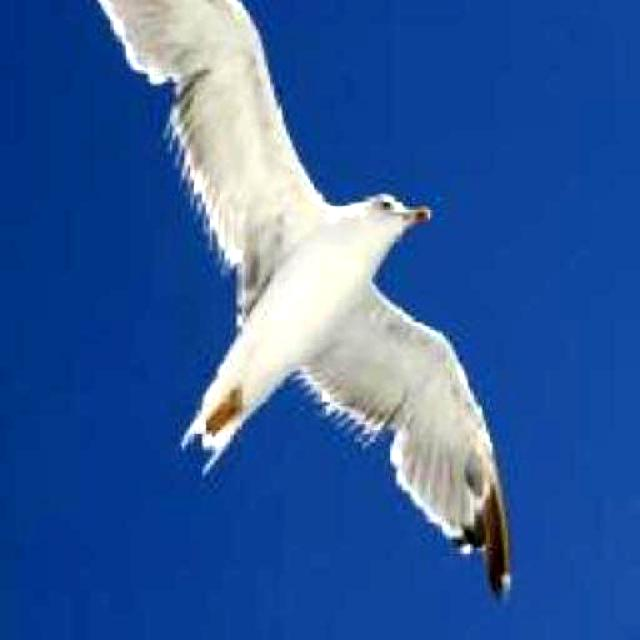airplane: (6, 0, 538, 638)
